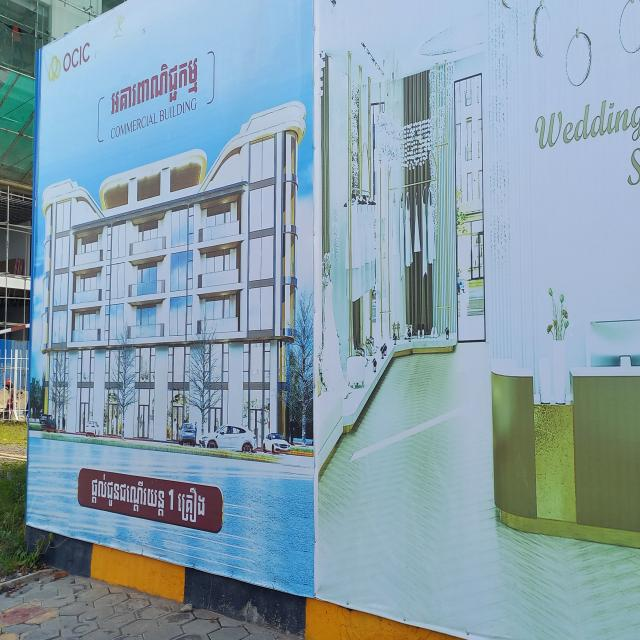Yolov11kh: (109, 47, 199, 124), (89, 471, 207, 529)
